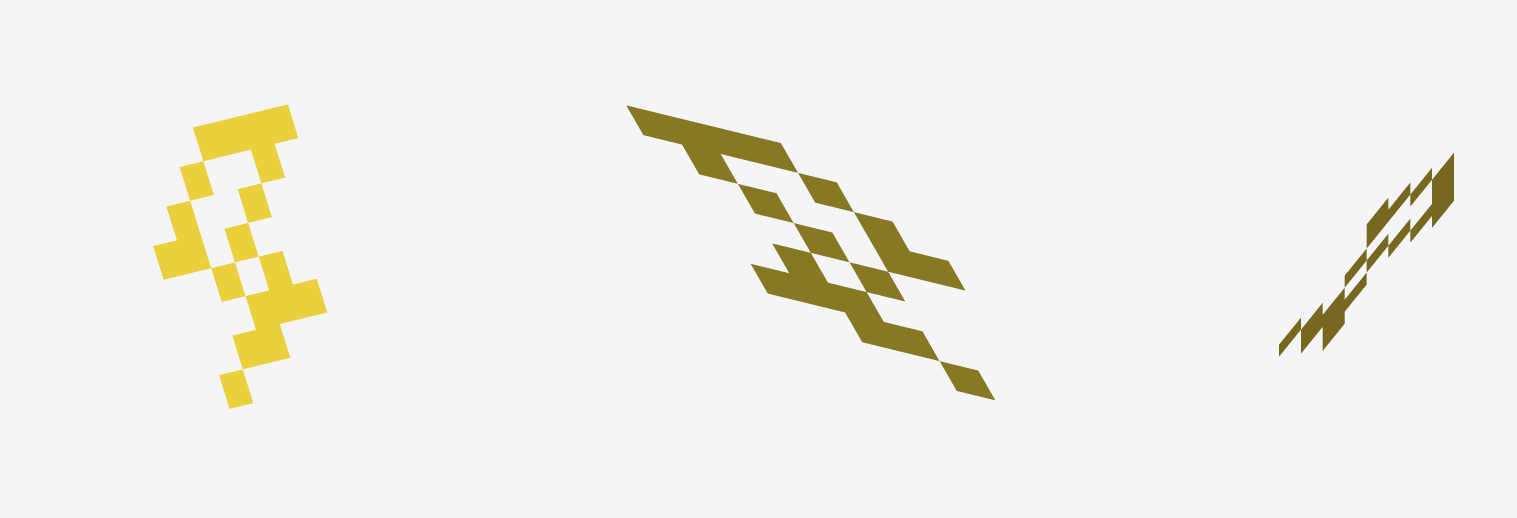
Rendered from SM_ElectricEnergy.fbx.
The picture shows the model from 3 angles, left to right: view 1: azimuth 30°, elevation 25°; view 2: azimuth 150°, elevation 25°; view 3: azimuth 270°, elevation 25°; orthographic projection. The views are drawn at different scales.
Visible parts, largest first — view 1: Cube.050; view 2: Cube.050; view 3: Cube.050.
Part boxes in pixels (box(x1,y1,x2,y2)): Cube.050: box(153, 104, 326, 408); Cube.050: box(626, 105, 994, 399); Cube.050: box(1279, 153, 1453, 356).
Bounding box in the file's own units: 144 × 140 × 103.
